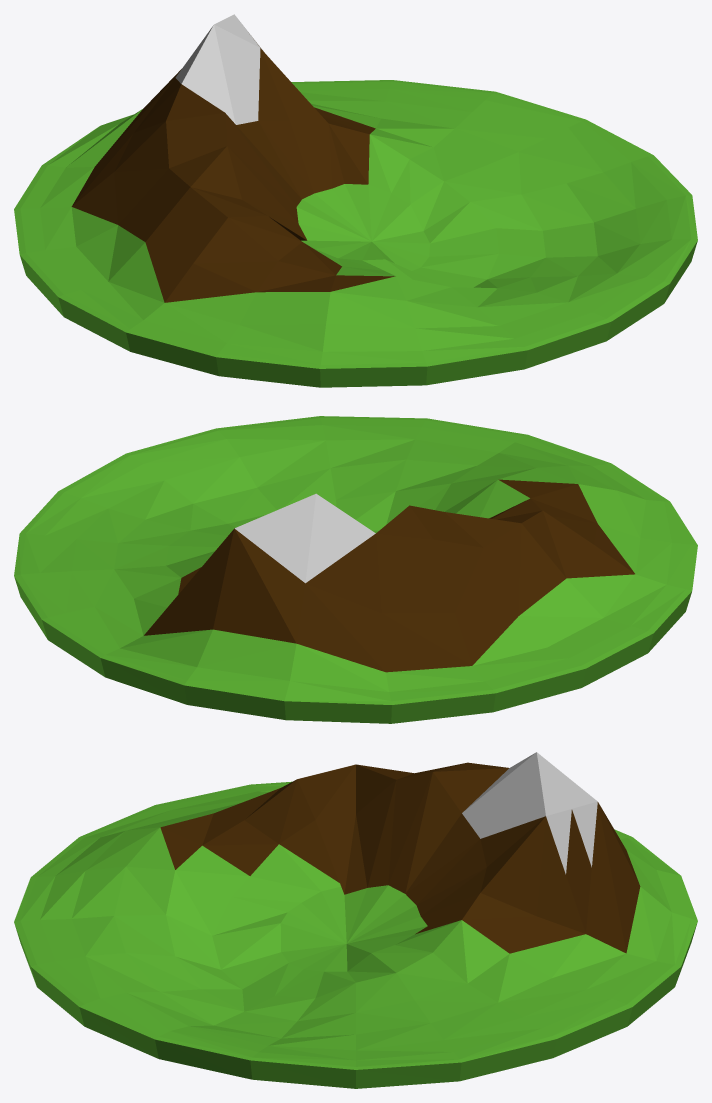
The model's file is TestLandscapeLP_Circle.fbx.
3 renders of one model, top to bottom at view 1: azimuth 30°, elevation 25°; view 2: azimuth 150°, elevation 25°; view 3: azimuth 270°, elevation 25°, orthographic.
Visible parts, largest first — view 1: Sphere; view 2: Sphere; view 3: Sphere.
Part boxes in pixels (box(x1,y1,x2,y2)): Sphere: box(14, 14, 697, 387); Sphere: box(14, 416, 697, 723); Sphere: box(14, 752, 697, 1088).
Size of the model in its own units: 2000 by 649 by 2000.
